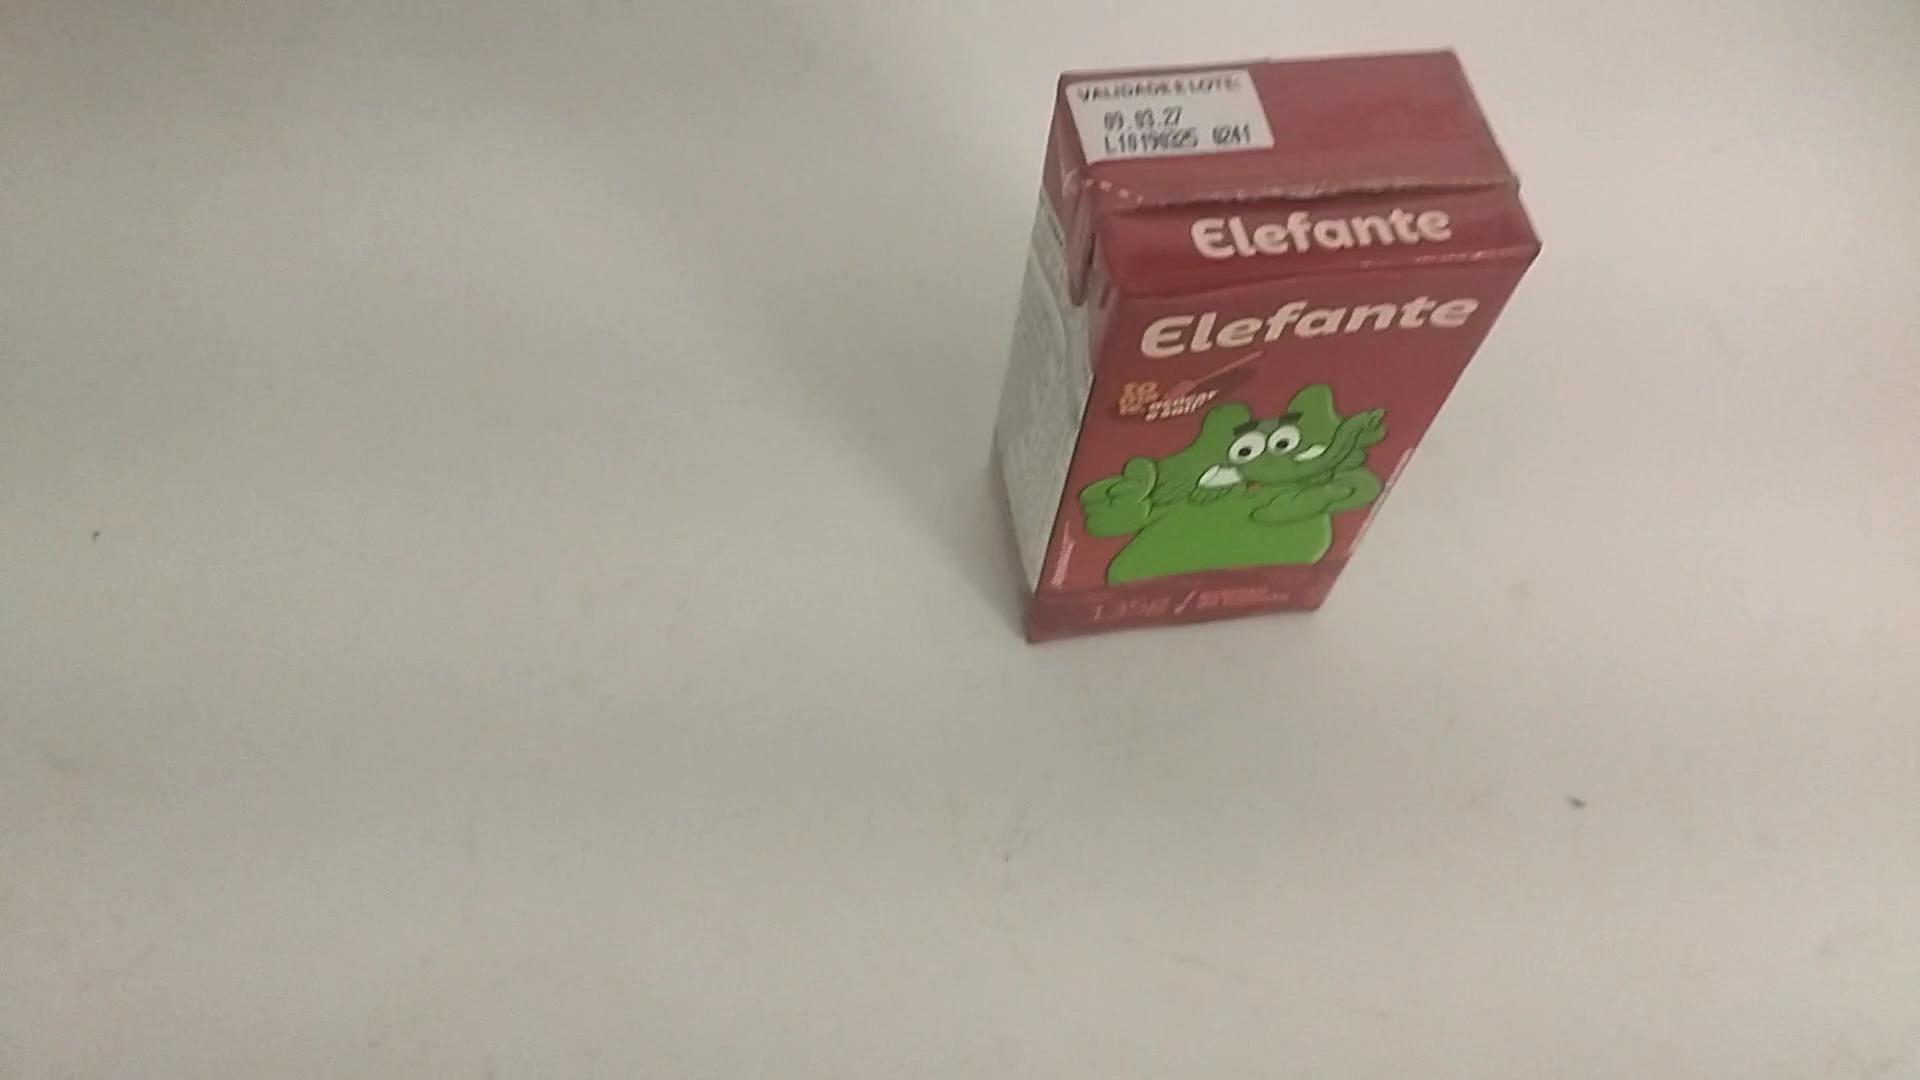tomate: (973, 45, 1545, 670)
